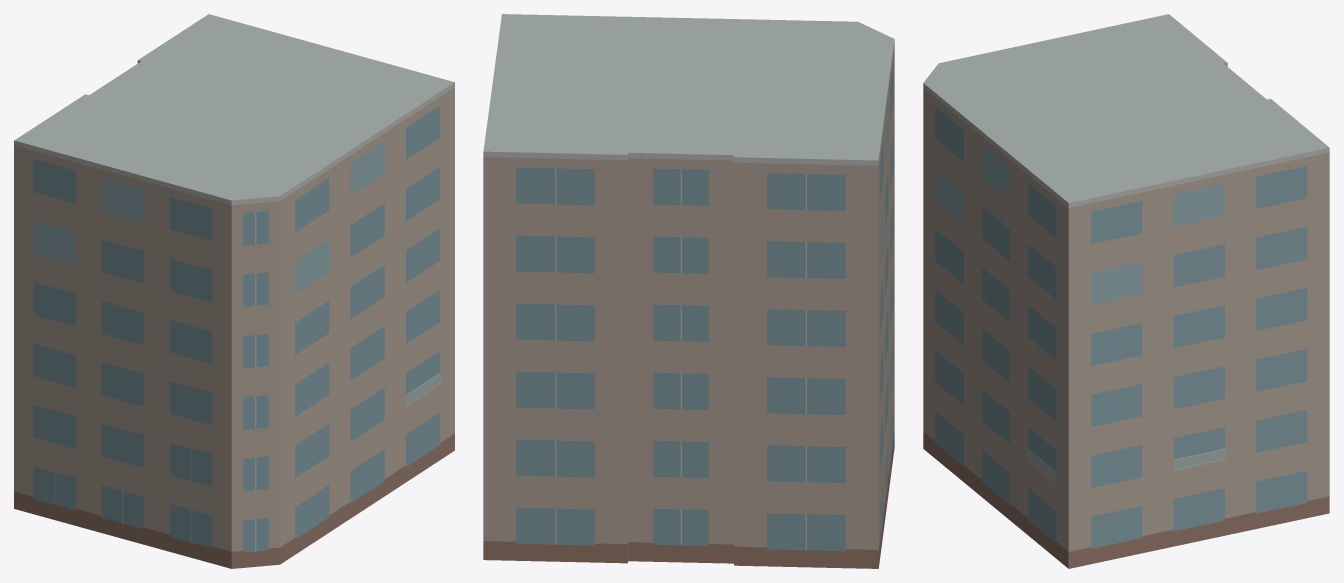
Rendered from survey-upis-32838681.glb.
The picture shows the model from 3 angles, left to right: view 1: azimuth 30°, elevation 25°; view 2: azimuth 150°, elevation 25°; view 3: azimuth 270°, elevation 25°; orthographic projection. The views are drawn at different scales.
Visible parts, largest first — view 1: survey-upis-32838681.tmp; view 2: survey-upis-32838681.tmp; view 3: survey-upis-32838681.tmp.
Boxes of the visible parts, x1,y1,x2,y2 form: survey-upis-32838681.tmp: [14, 14, 454, 568]; survey-upis-32838681.tmp: [483, 14, 894, 568]; survey-upis-32838681.tmp: [923, 14, 1329, 568].
Size of the model in its own units: 20.3 by 18.3 by 18.43.
